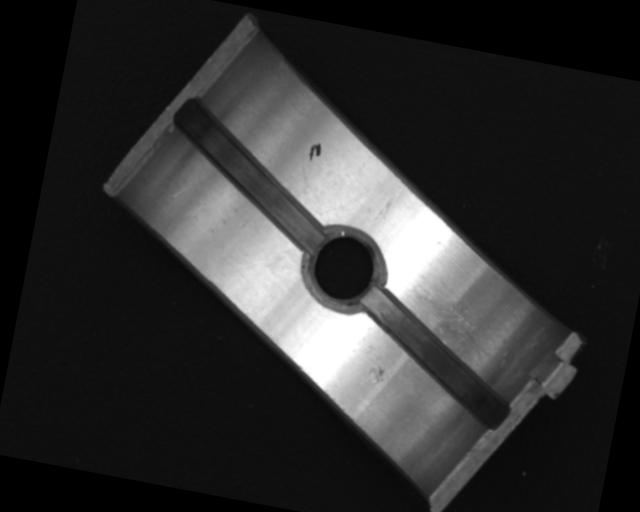blot: (306, 140, 323, 163)
bruise: (365, 363, 388, 386)
gap: (155, 96, 341, 253), (345, 287, 526, 432)
hole: (300, 222, 388, 317)
nick: (372, 178, 405, 225)
scratch: (399, 280, 501, 367)
